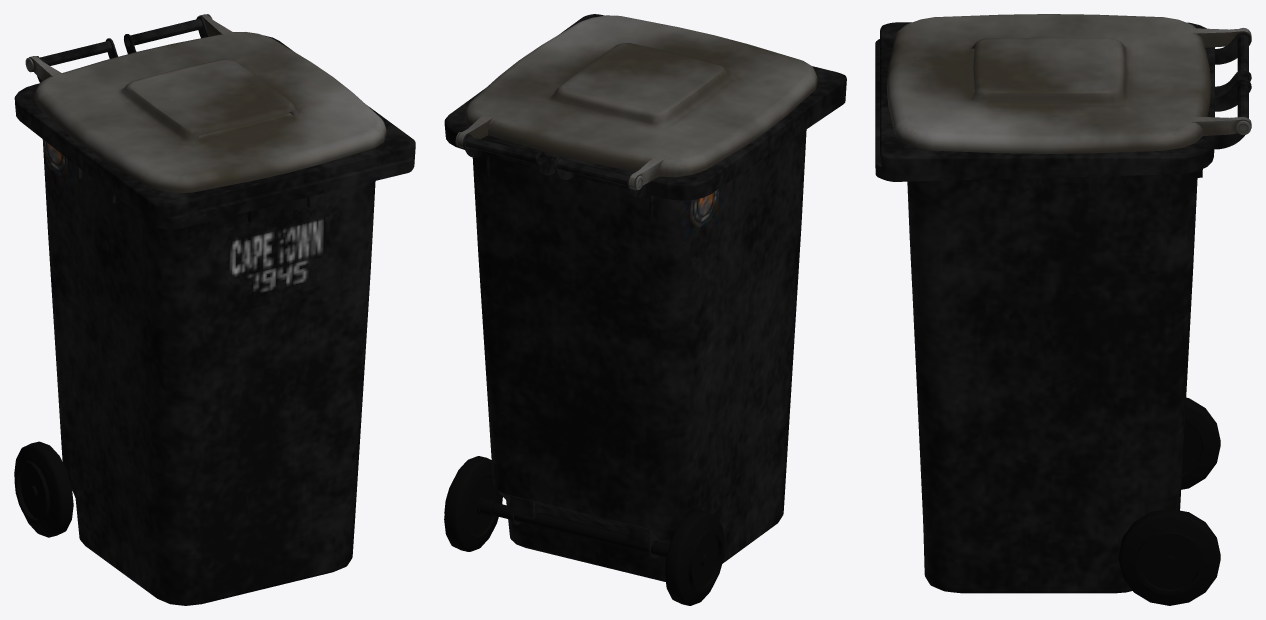
The model's file is bin.glb.
3 renders of one model, left to right at view 1: azimuth 30°, elevation 25°; view 2: azimuth 150°, elevation 25°; view 3: azimuth 270°, elevation 25°, orthographic. The views are drawn at different scales.
Visible parts, largest first — view 1: Cylinder.004; view 2: Cylinder.004; view 3: Cylinder.004.
Part boxes in pixels (x1,y1,x2,y2): Cylinder.004: (14, 14, 415, 605); Cylinder.004: (444, 14, 846, 605); Cylinder.004: (875, 14, 1251, 605).
Bounding box in the file's own units: 0.6649 × 1.1 × 0.7787.
Materials: 1 (1 with a texture image).
